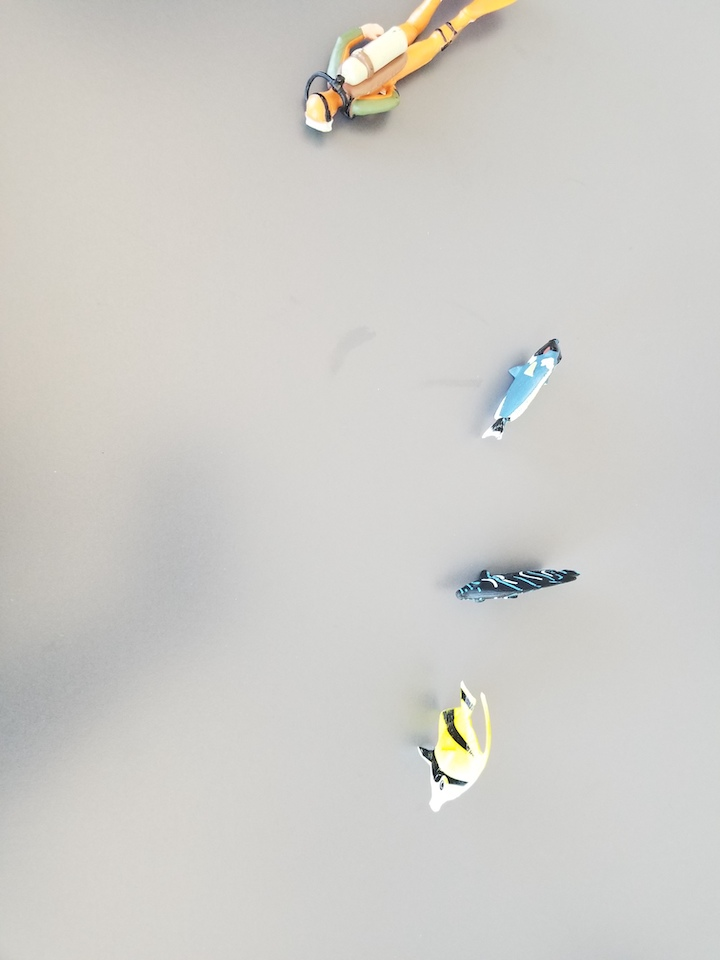danger: (417, 679, 497, 815)
diver: (298, 1, 518, 137)
fish: (479, 339, 564, 444), (454, 569, 582, 603)
